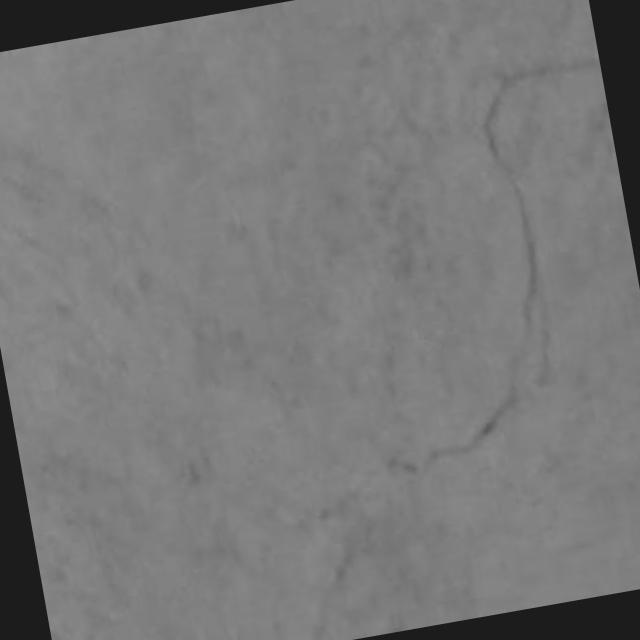crack: (424, 61, 595, 463), (313, 540, 359, 639)
